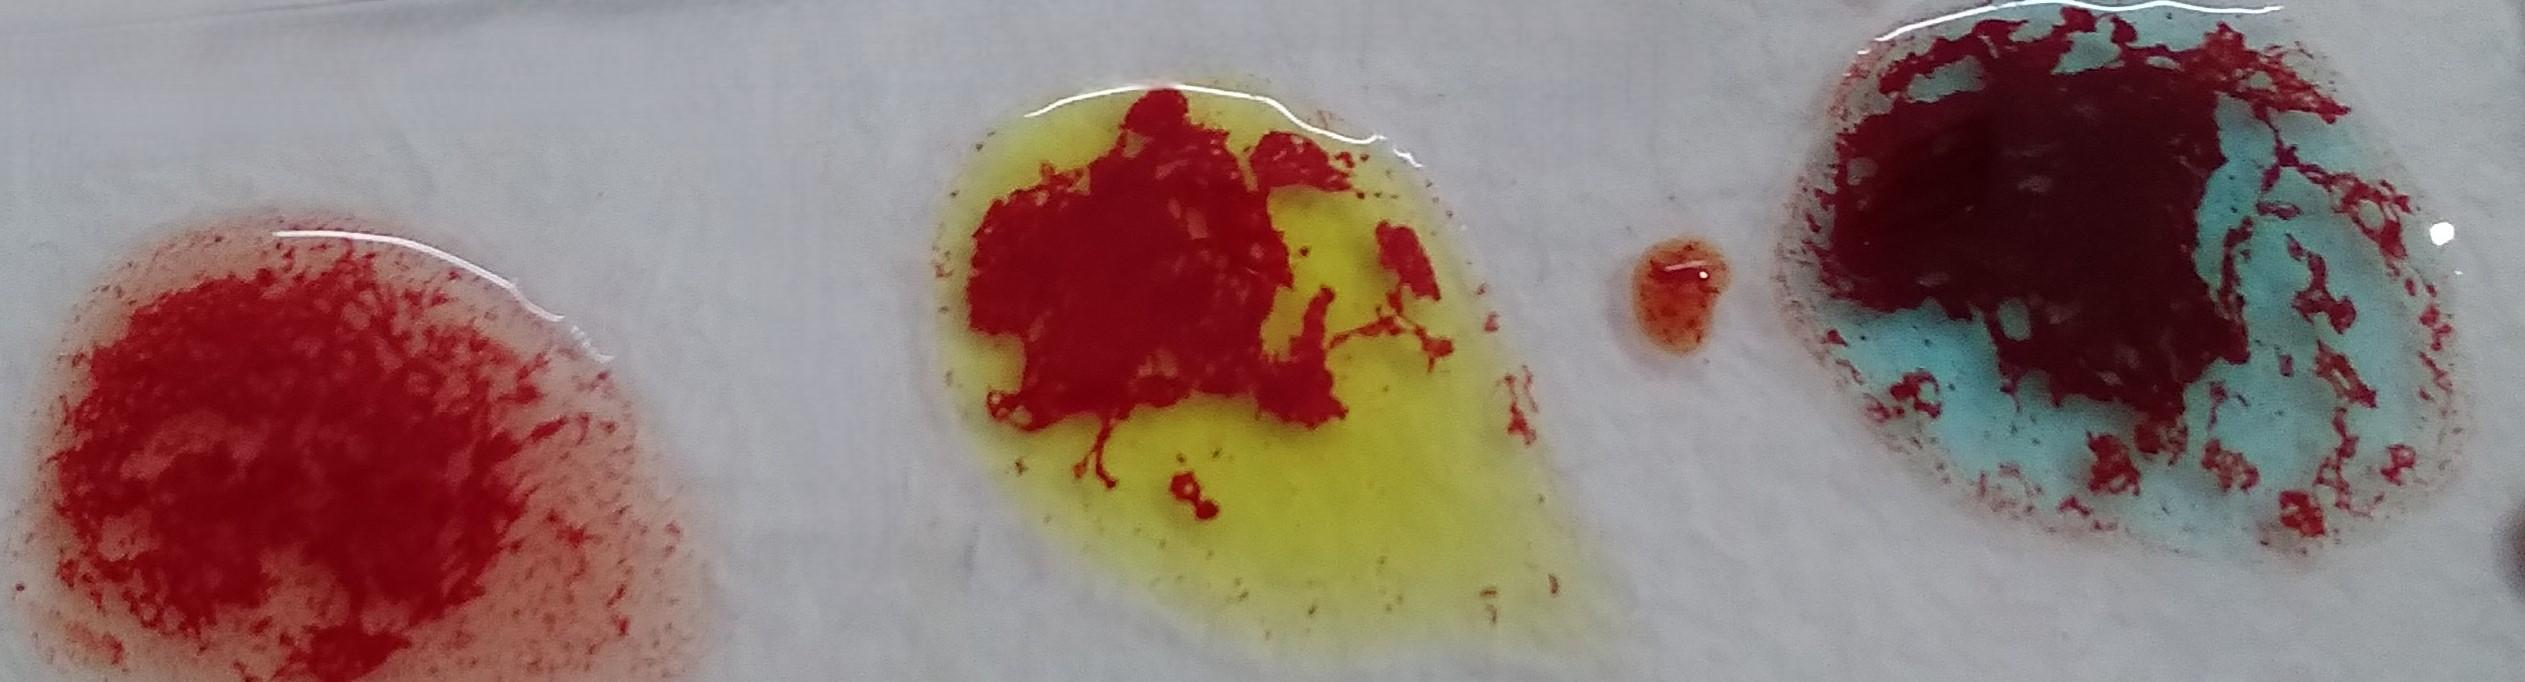A: (1810, 26, 2440, 577)
B: (937, 100, 1597, 682)
D: (26, 224, 684, 682)
